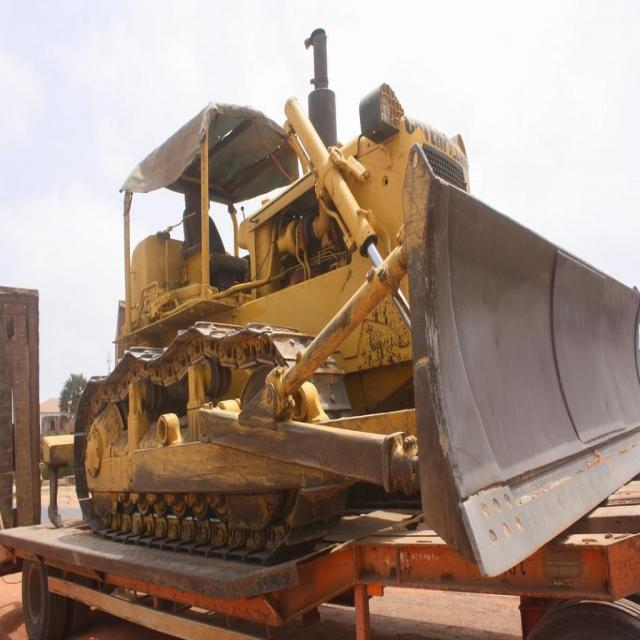Bulldozer: (89, 58, 639, 591)
